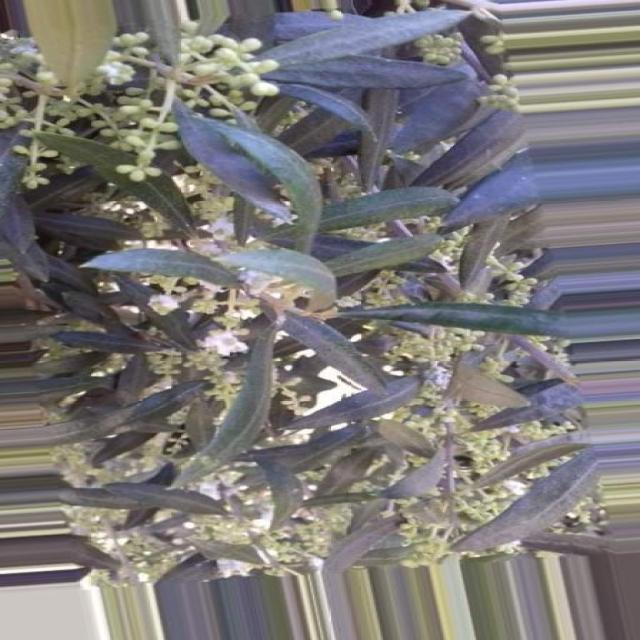Psyllid: (193, 326, 246, 358), (98, 62, 138, 86), (147, 296, 180, 317)
